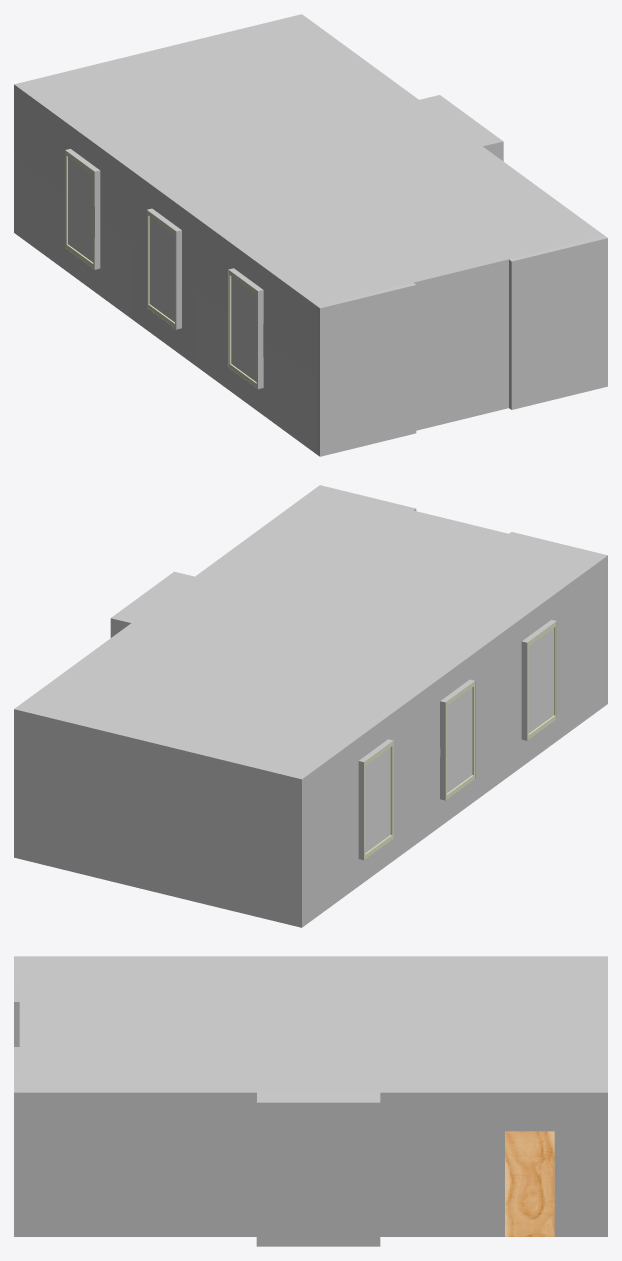
3 views of the same model, one above another, from view 1: azimuth 30°, elevation 25°; view 2: azimuth 150°, elevation 25°; view 3: azimuth 270°, elevation 25° (orthographic). The views are drawn at different scales.
Visible parts, largest first — view 1: pokój, window, window.001, window.002; view 2: pokój, window.002, window, window.001; view 3: pokój.
Boxes of the visible parts, bbox=[...] form: pokój: bbox=[14, 14, 607, 456]; window: bbox=[228, 270, 257, 388]; window.001: bbox=[147, 210, 176, 328]; window.002: bbox=[65, 151, 94, 268]; pokój: bbox=[14, 485, 607, 927]; window.002: bbox=[364, 741, 393, 859]; window: bbox=[527, 622, 556, 739]; window.001: bbox=[446, 681, 474, 799]; pokój: bbox=[14, 956, 607, 1246].
Size of the model in its own units: 667 by 302 by 1125.
